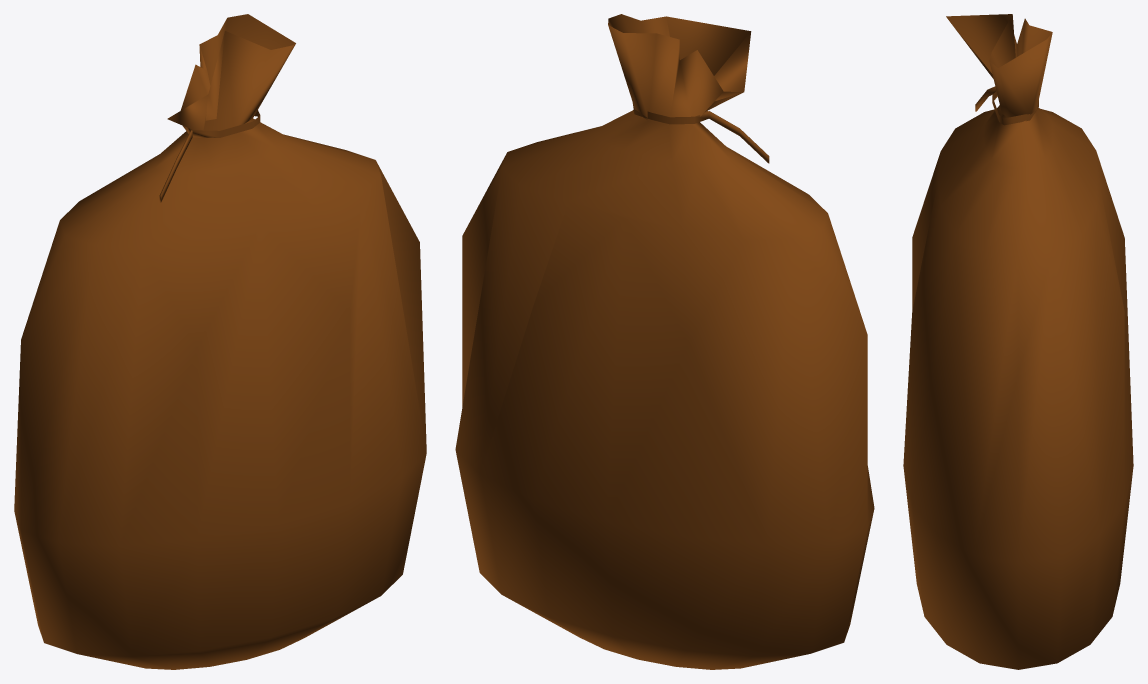
Rendered from prop_bag.glb.
The picture shows the model from 3 angles, left to right: view 1: azimuth 30°, elevation 25°; view 2: azimuth 150°, elevation 25°; view 3: azimuth 270°, elevation 25°; orthographic projection.
Visible parts, largest first — view 1: Props with out snow_Bag_0; view 2: Props with out snow_Bag_0; view 3: Props with out snow_Bag_0.
Boxes of the visible parts, left/top/right/bottom form: Props with out snow_Bag_0: left=14, top=14, right=426, bottom=669; Props with out snow_Bag_0: left=455, top=14, right=874, bottom=669; Props with out snow_Bag_0: left=903, top=14, right=1133, bottom=669.
Size of the model in its own units: 1.63 by 2.39 by 0.8161.
